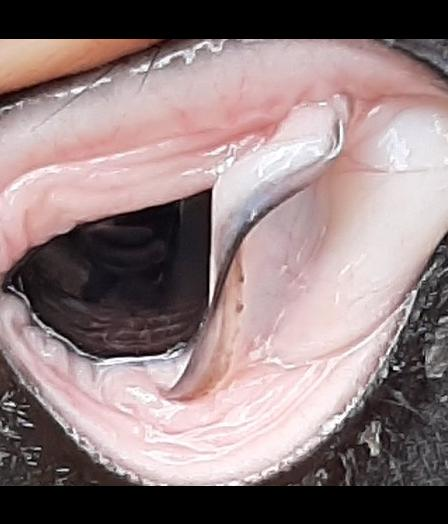eye_membrane: (0, 39, 448, 483)
